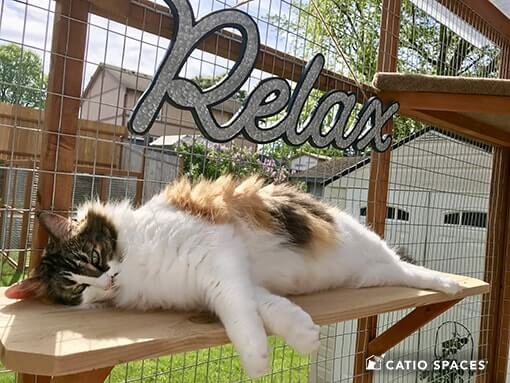cat: (6, 171, 482, 362)
